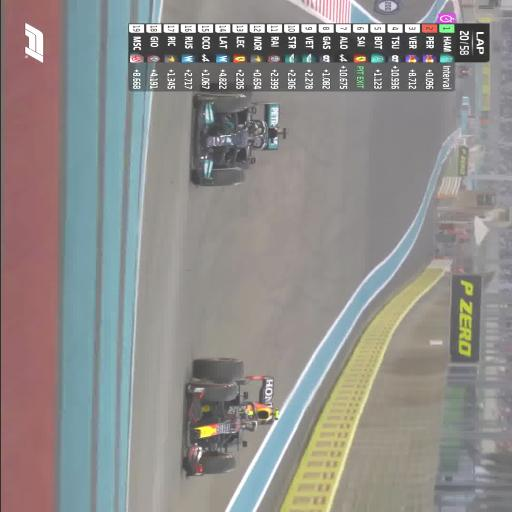f1_car: (183, 358, 278, 477), (192, 93, 286, 186), (458, 65, 471, 79)
